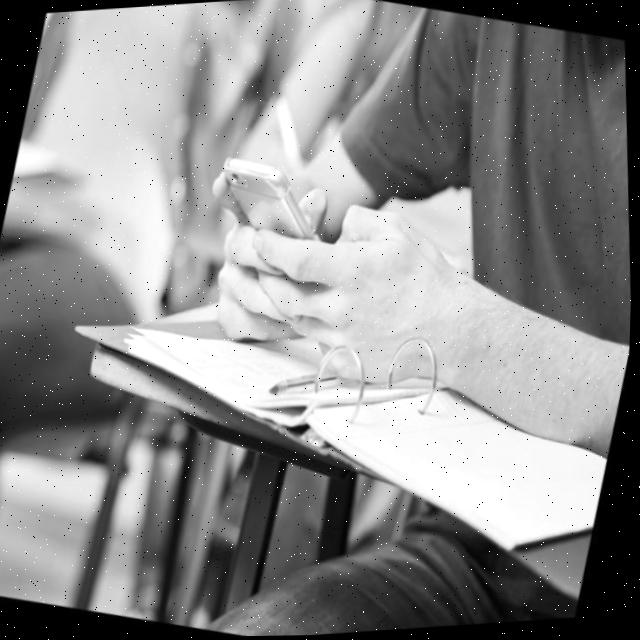phone: (187, 140, 369, 330)
